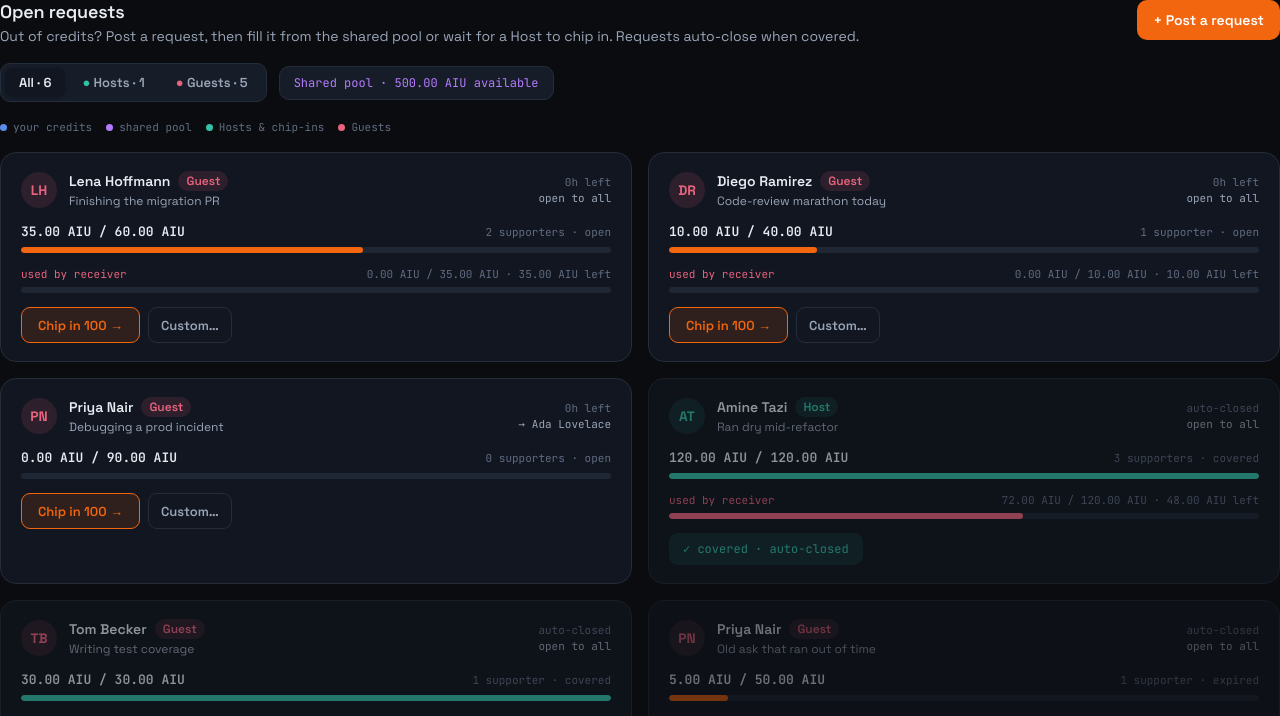
Test: marketplace › donates to a request and advances its progress
The width and height of the screenshot is (1280, 716).
expect the link "Lena Hoffmann" is shown: met, box [69, 172, 170, 190]
expect the text "35.00 AIU / 60.00 AIU" is shown: met, box [21, 223, 185, 240]
Click the button "Chip in 100 →" below "60.00 AIU": click(80, 325) [21, 307, 140, 343]
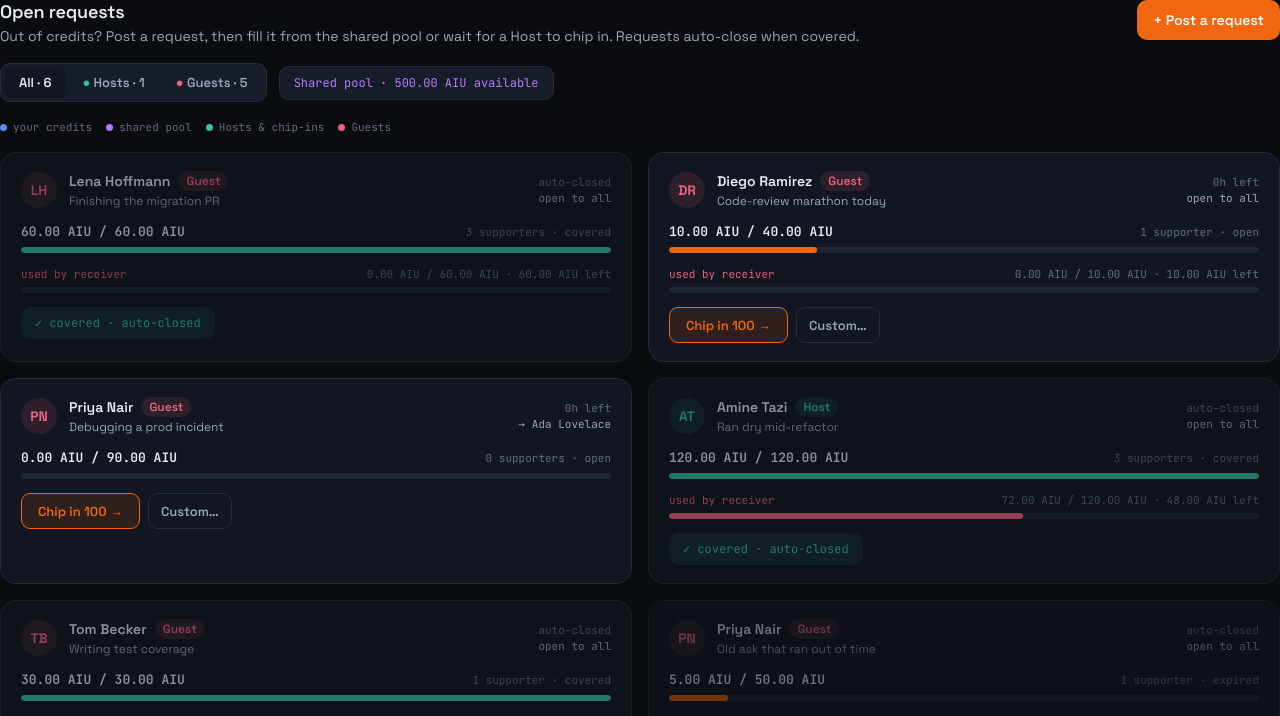
expect the text "60.00 AIU / 60.00 AIU" is shown: met, box [21, 223, 185, 240]
